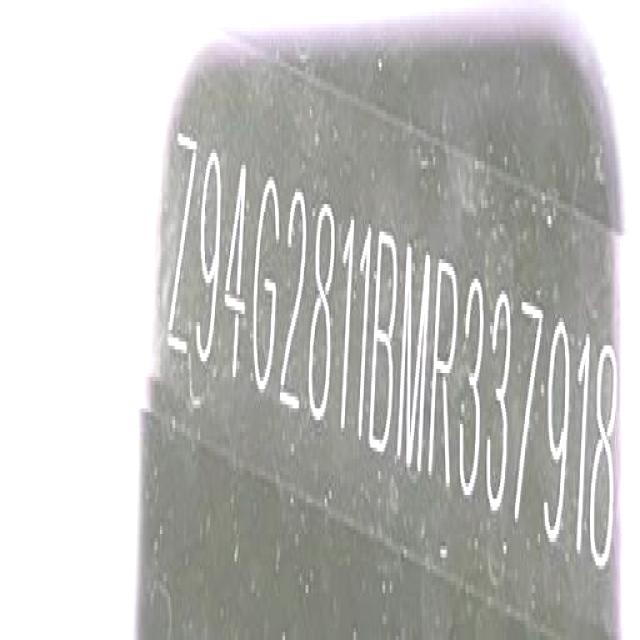1: (575, 324, 593, 564), (356, 222, 372, 440), (341, 218, 356, 444)
2: (283, 183, 310, 414)
3: (460, 274, 486, 511), (487, 286, 513, 519)
4: (222, 164, 252, 387)
7: (516, 293, 543, 540)
8: (592, 341, 621, 574), (309, 198, 337, 430)
9: (546, 315, 574, 553), (196, 147, 225, 376)
B: (372, 226, 400, 462)
G: (251, 176, 280, 393)
M: (398, 248, 430, 482)
R: (429, 256, 458, 499)
Z: (163, 125, 200, 373)
